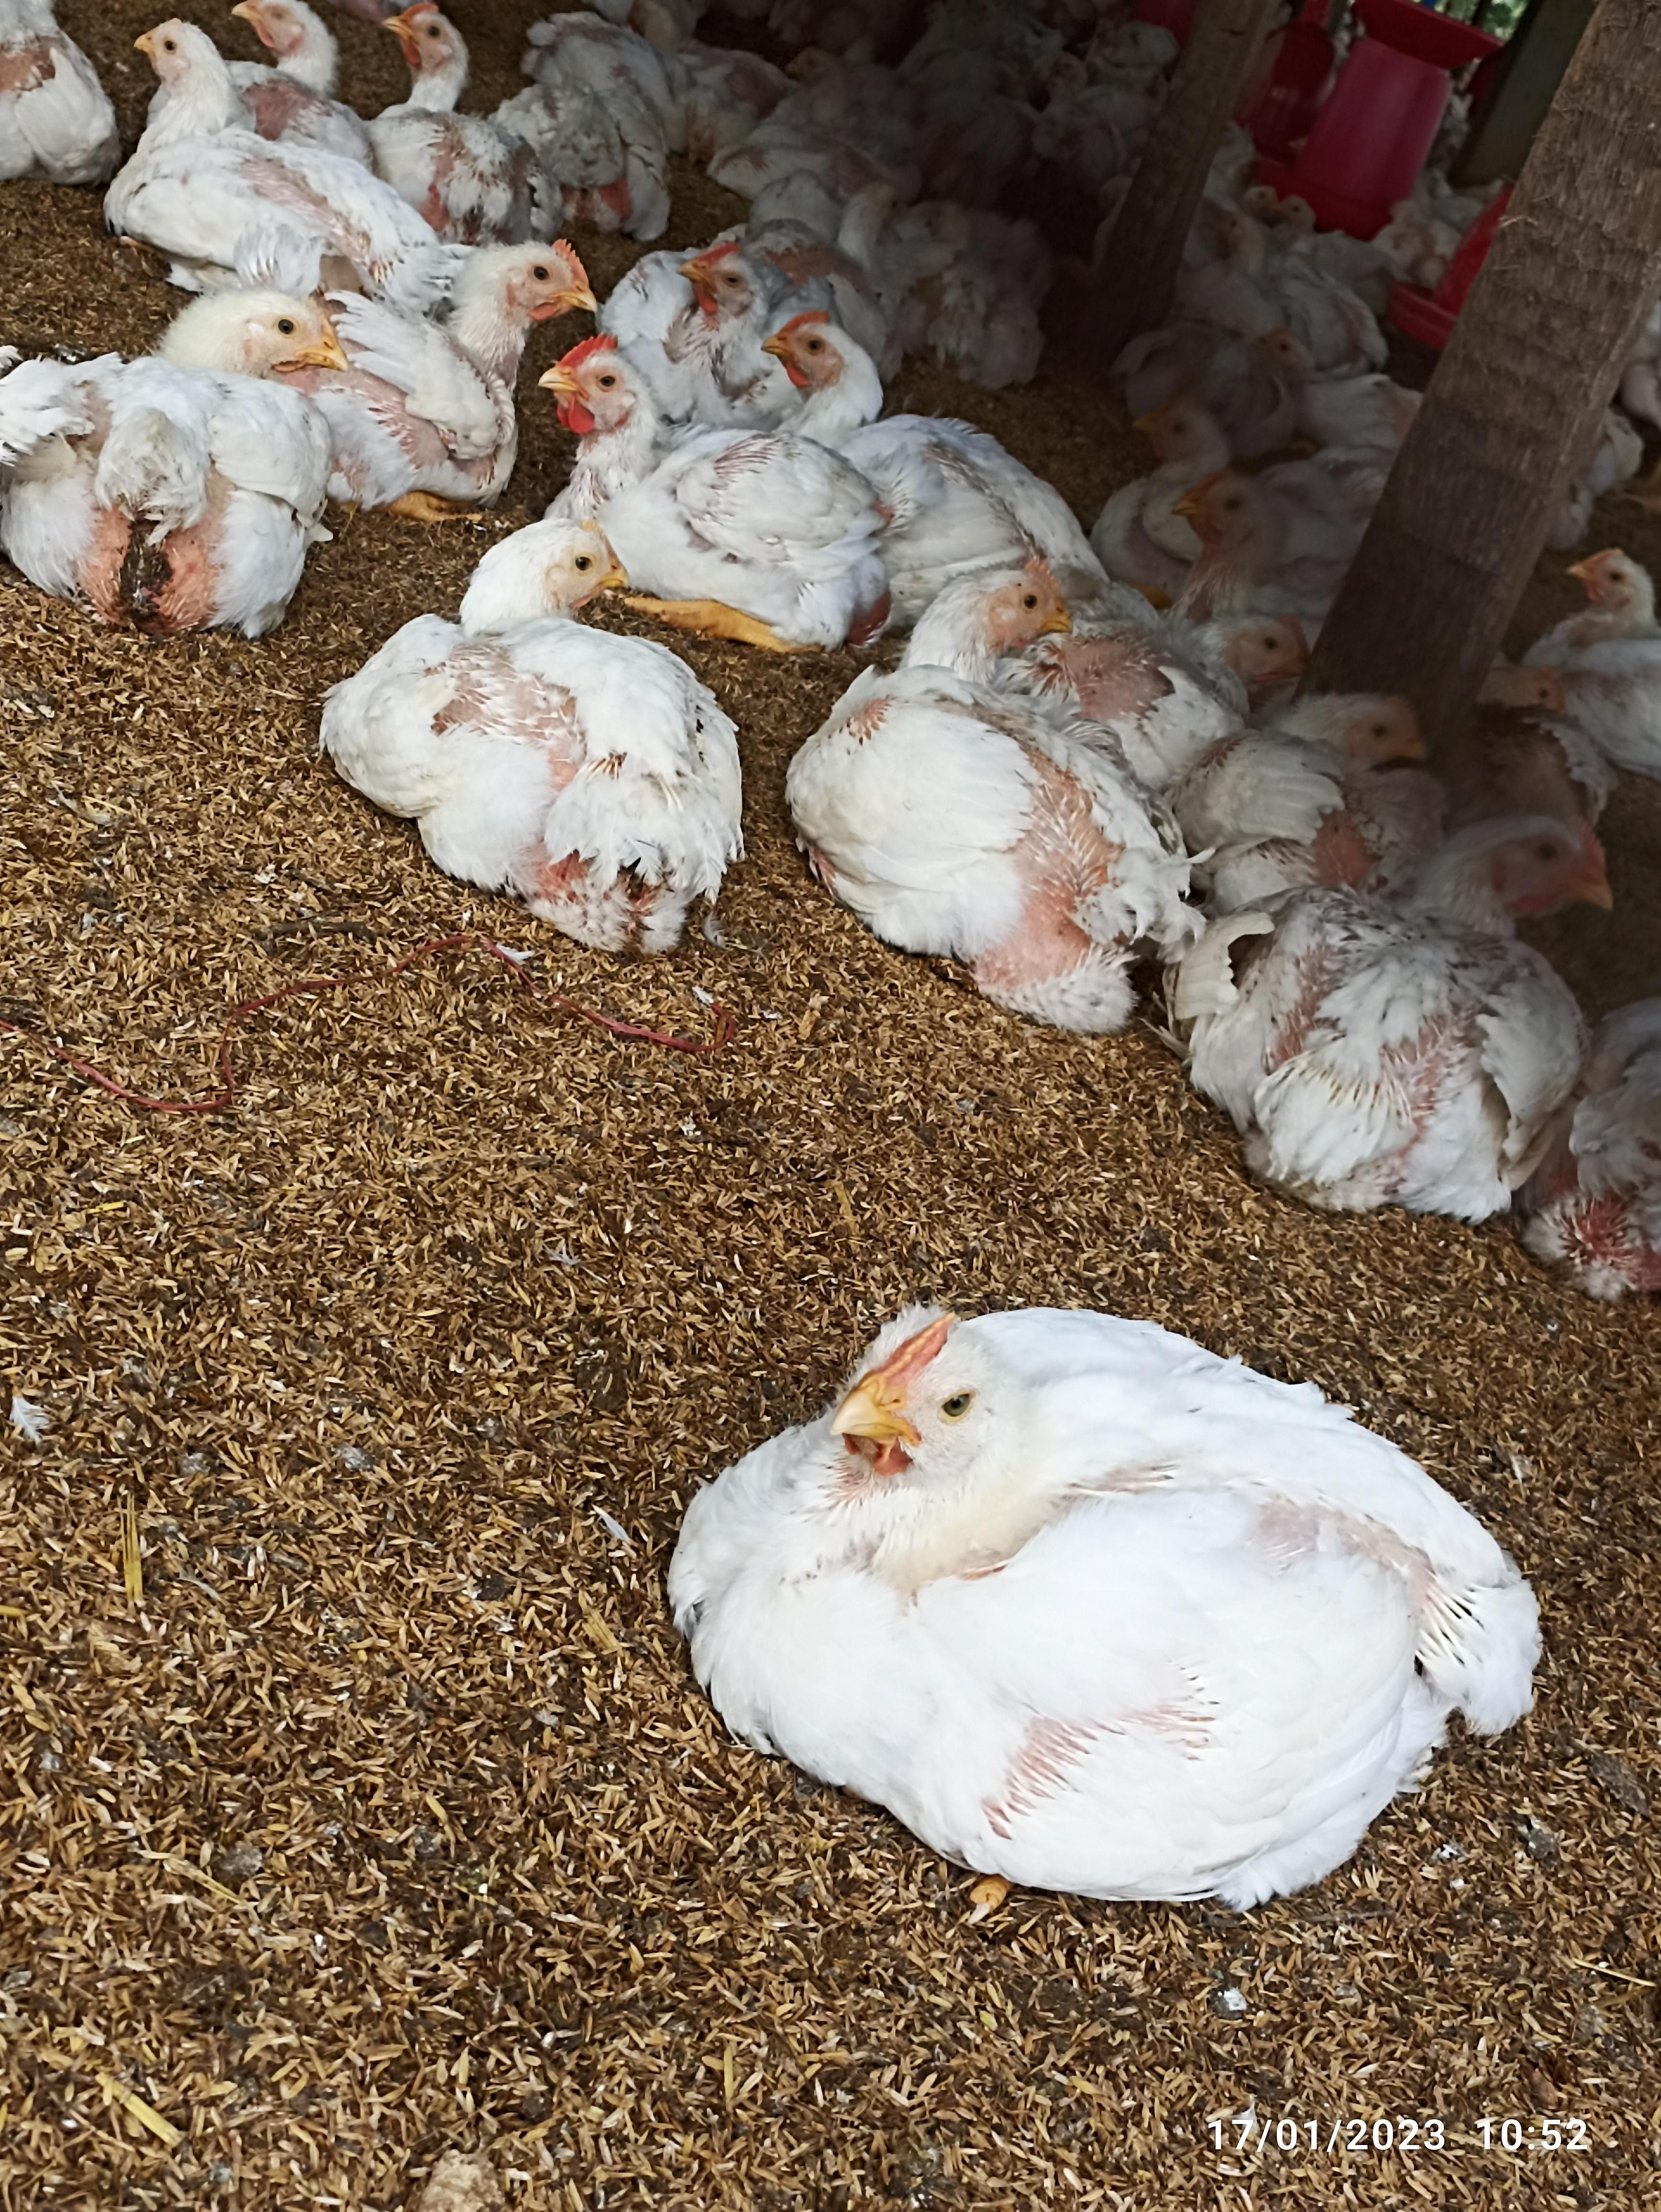Pollos: (660, 1291, 1520, 1908), (822, 556, 1179, 1022), (363, 525, 721, 937), (1234, 813, 1624, 1171), (16, 283, 342, 618), (541, 337, 865, 618), (305, 229, 605, 476), (120, 21, 400, 279), (764, 297, 913, 488)
